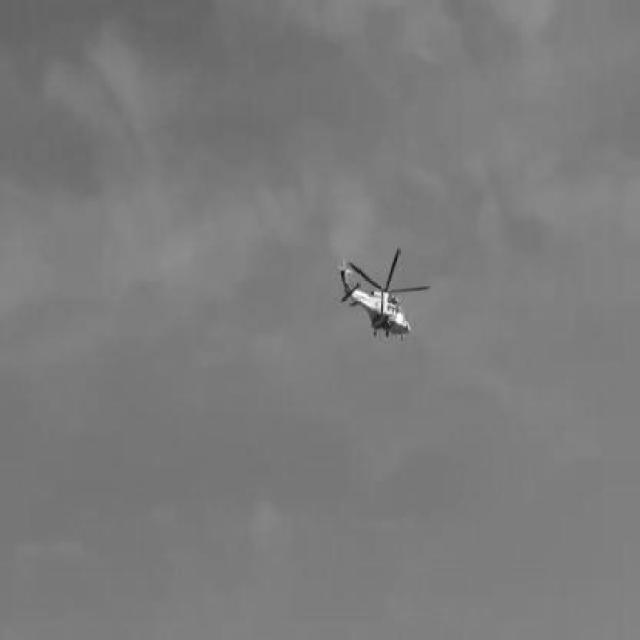helikopter: (332, 246, 436, 346)
